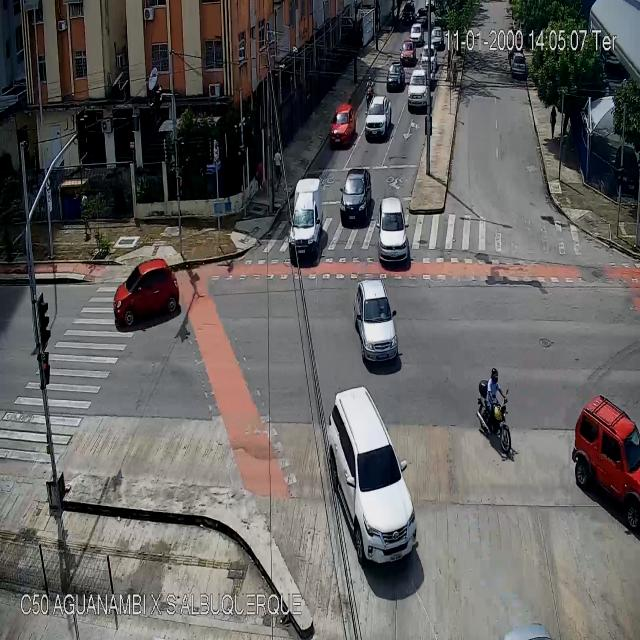Car: (328, 388, 418, 560), (574, 396, 640, 530), (353, 278, 402, 368), (114, 259, 180, 325), (289, 177, 325, 262), (376, 198, 410, 270), (341, 170, 374, 225), (364, 98, 391, 139), (331, 105, 356, 146), (407, 70, 430, 108), (386, 62, 405, 91), (419, 45, 436, 72), (430, 28, 445, 50), (400, 42, 415, 63), (511, 54, 524, 75), (411, 24, 423, 46), (416, 8, 428, 28)
Motorcycle: (476, 364, 511, 457), (366, 76, 374, 108)
